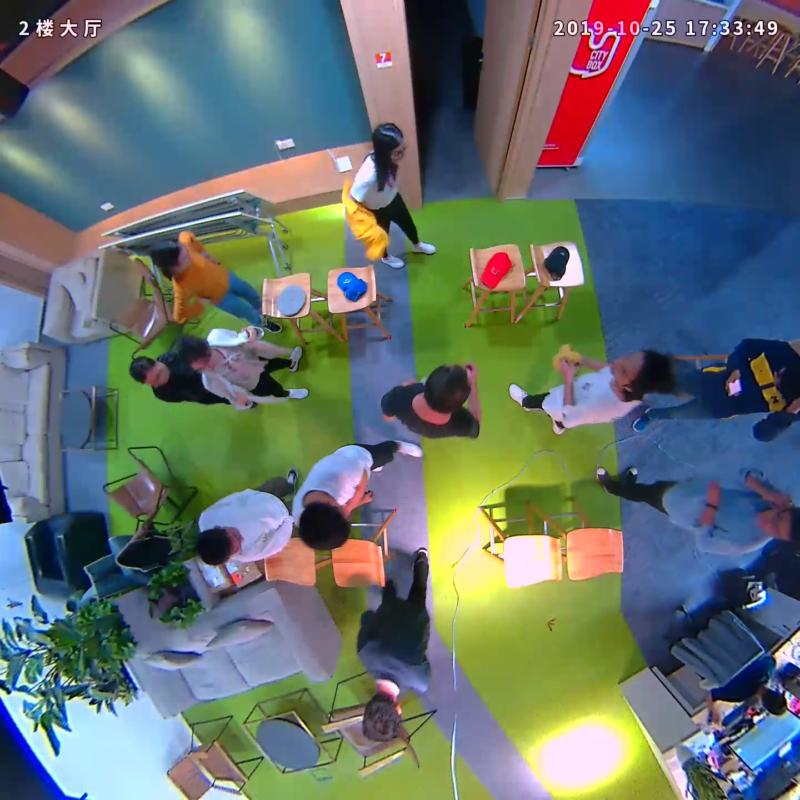head: (607, 348, 668, 396), (297, 501, 351, 550), (423, 361, 471, 411), (360, 689, 403, 742), (195, 528, 241, 566), (758, 506, 800, 546), (371, 123, 406, 164), (149, 240, 191, 274), (177, 337, 215, 372), (128, 356, 167, 386)
